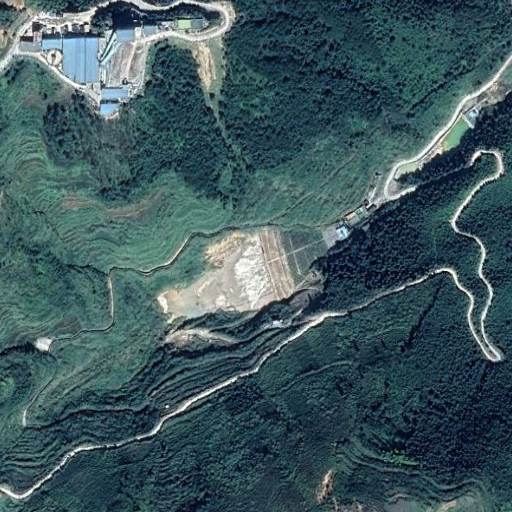tp: (158, 233, 333, 318)
